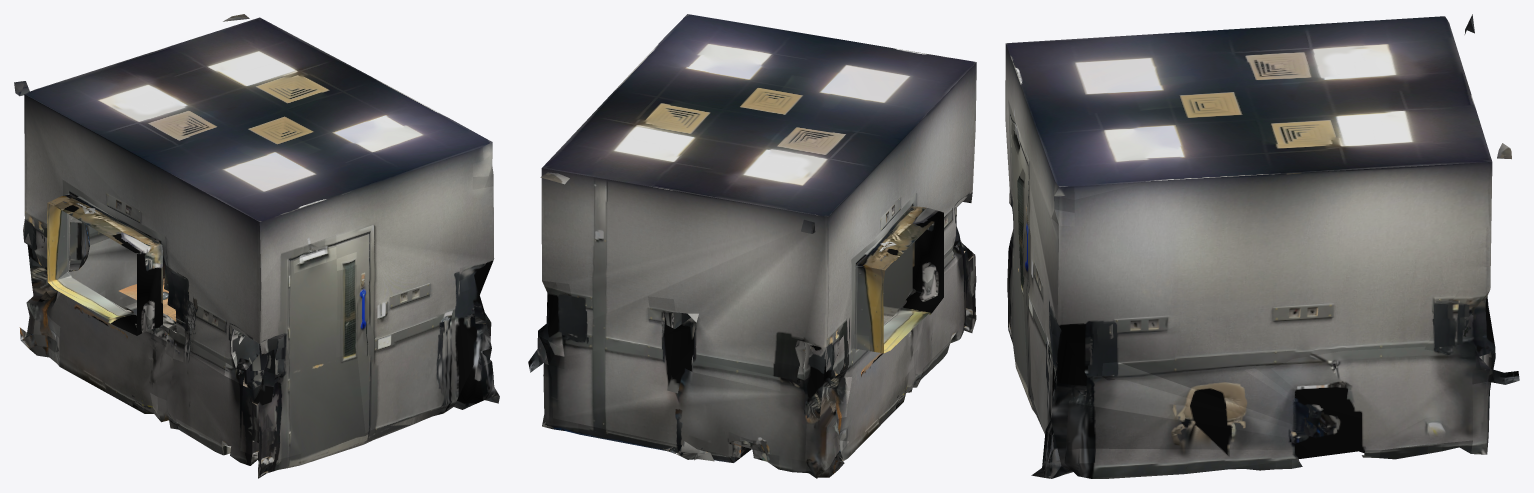
Rendered from 1-opposite-m108-IM-v2.fbx.
3 views of the same model, side by side, from view 1: azimuth 30°, elevation 25°; view 2: azimuth 150°, elevation 25°; view 3: azimuth 270°, elevation 25° (orthographic). The views are drawn at different scales.
Parts seen in each view (by area): view 1: 1-opposite-m108-IM-v2; view 2: 1-opposite-m108-IM-v2; view 3: 1-opposite-m108-IM-v2.
Part boxes in pixels (<box>): 1-opposite-m108-IM-v2: <box>14,14,499,478</box>; 1-opposite-m108-IM-v2: <box>528,14,976,478</box>; 1-opposite-m108-IM-v2: <box>1005,14,1519,478</box>.
Size of the model in its own units: 323 by 252 by 384.
Materials: 1 (1 with a texture image).
